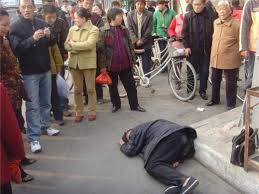collapsed: (115, 109, 206, 194)
